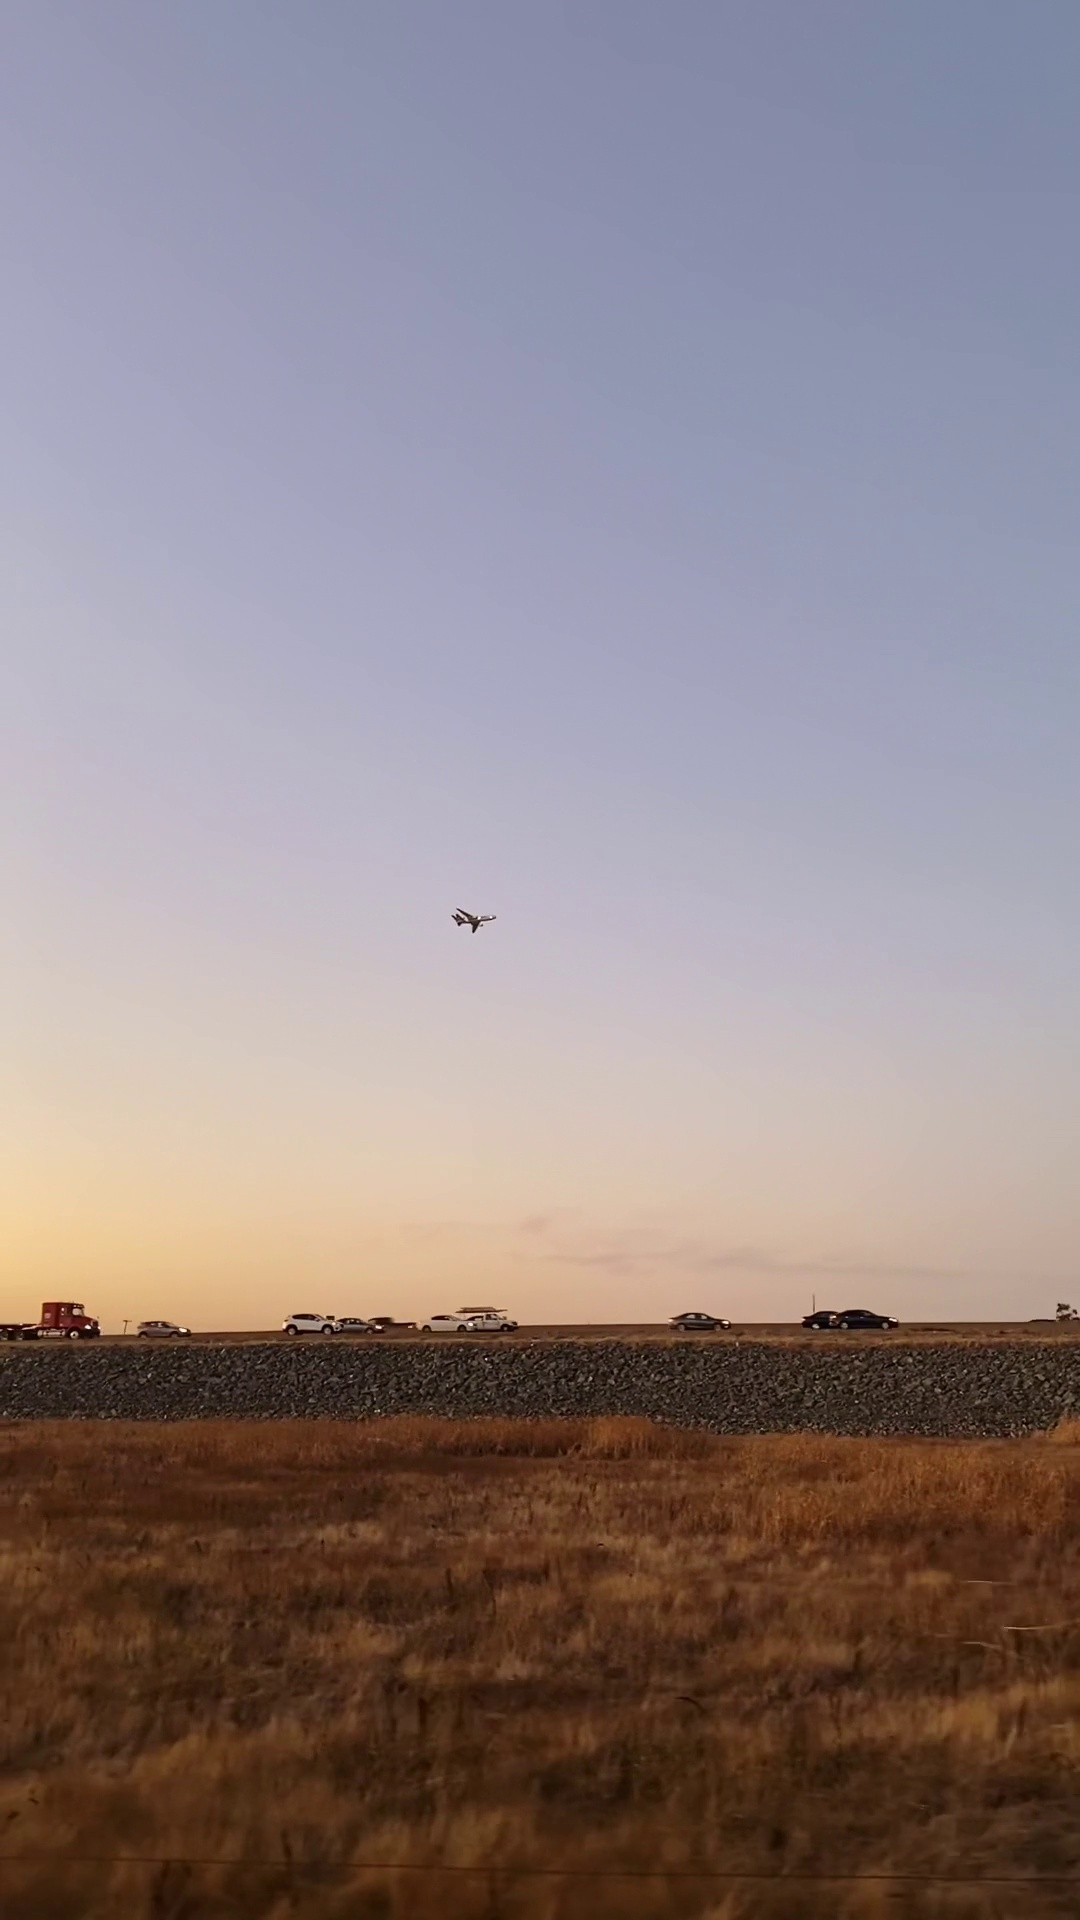plane: (450, 906, 497, 934)
